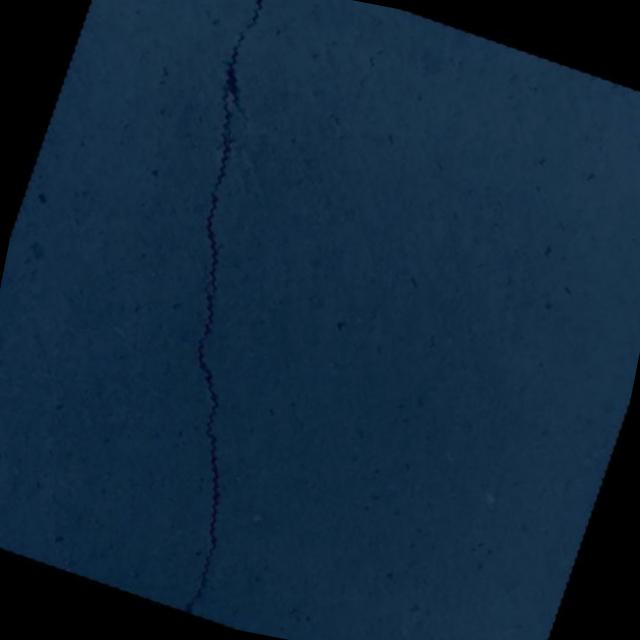crack: (40, 0, 405, 633), (11, 338, 92, 440), (34, 504, 92, 574)
